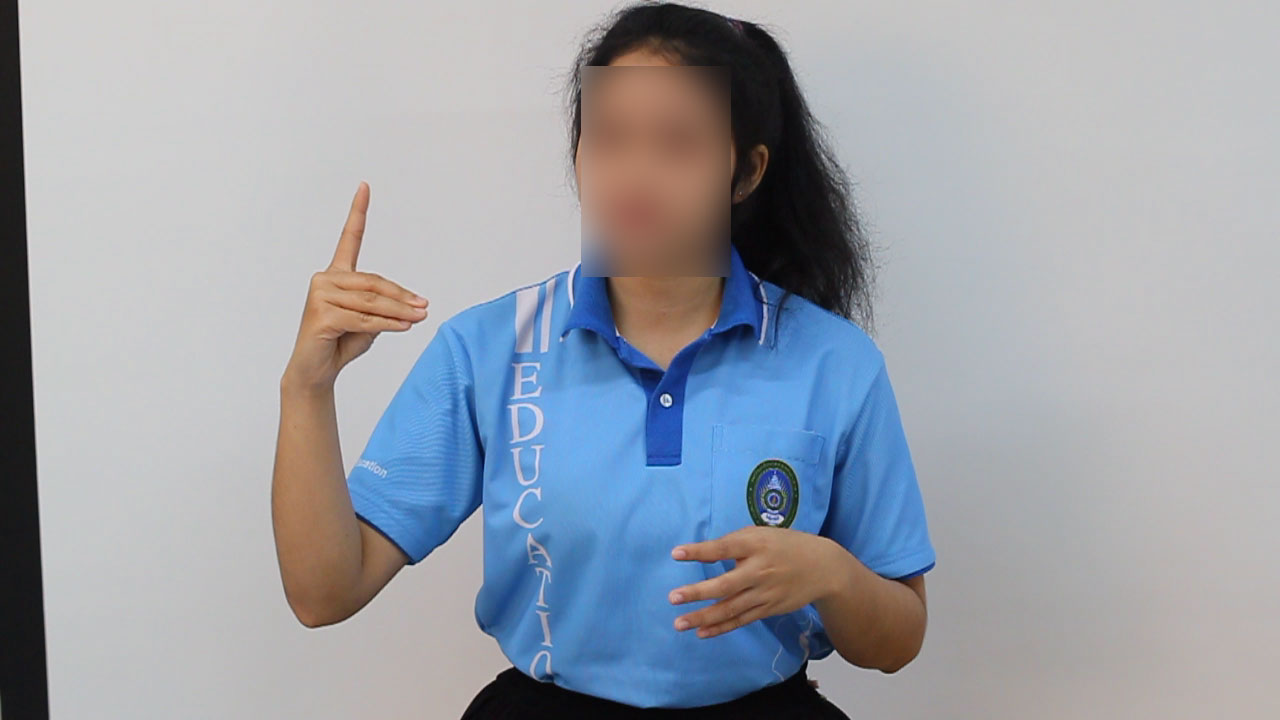dor: (275, 172, 436, 391)
